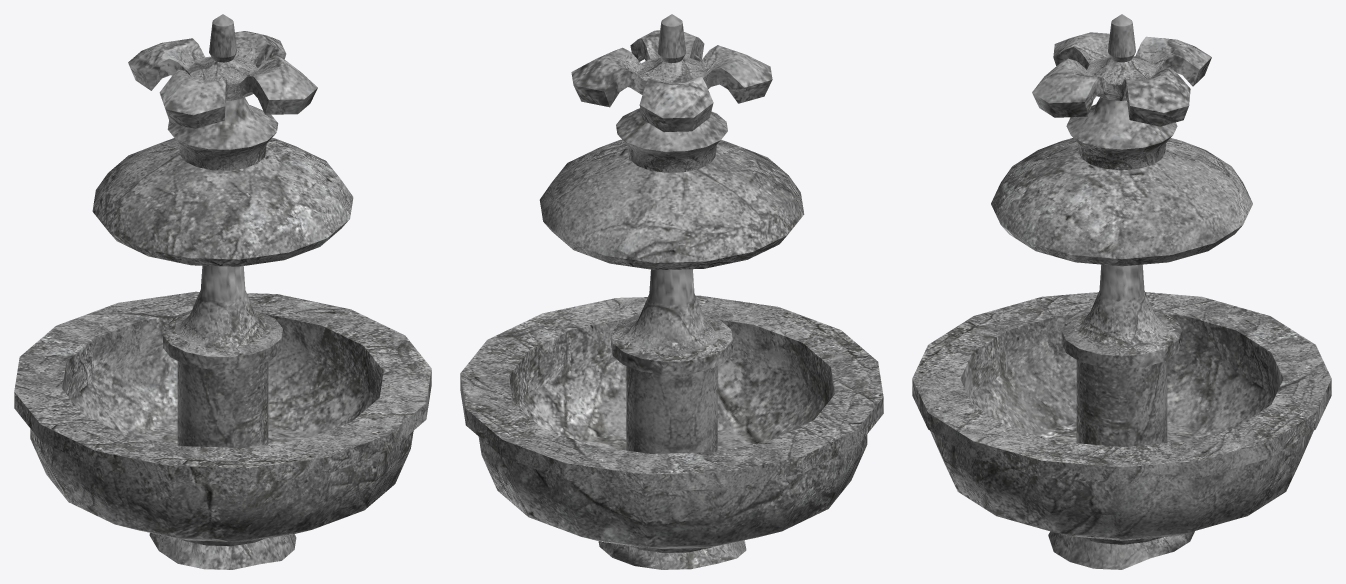
File: materials_3_fountain_4.fbx
3 renders of one model, left to right at view 1: azimuth 30°, elevation 25°; view 2: azimuth 150°, elevation 25°; view 3: azimuth 270°, elevation 25°, orthographic.
Visible parts, largest first — view 1: materials_3_fountain_4; view 2: materials_3_fountain_4; view 3: materials_3_fountain_4.
Part boxes in pixels (x1,y1,x2,y2): materials_3_fountain_4: (14,14,431,569); materials_3_fountain_4: (460,14,883,569); materials_3_fountain_4: (912,14,1331,569).
Bounding box in the file's own units: 65.76 × 92.07 × 65.76.
